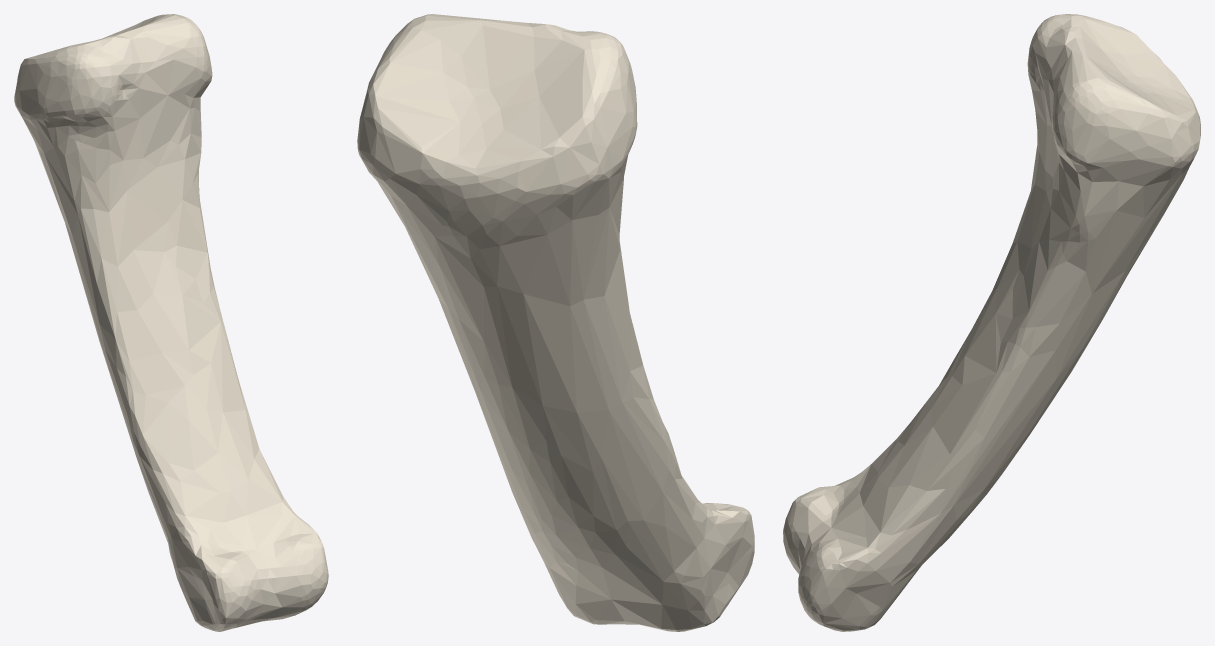
The model's file is left_ring_proximal_phalanx.glb.
The picture shows the model from 3 angles, left to right: view 1: azimuth 30°, elevation 25°; view 2: azimuth 150°, elevation 25°; view 3: azimuth 270°, elevation 25°; orthographic projection. The views are drawn at different scales.
Parts seen in each view (by area): view 1: left_ring_proximal_phalanx; view 2: left_ring_proximal_phalanx; view 3: left_ring_proximal_phalanx.
Boxes of the visible parts, <box> form: left_ring_proximal_phalanx: <box>14,14,328,631</box>; left_ring_proximal_phalanx: <box>357,14,754,631</box>; left_ring_proximal_phalanx: <box>783,14,1200,631</box>.
Size of the model in its own units: 0.0137 by 0.0393 by 0.0264.
